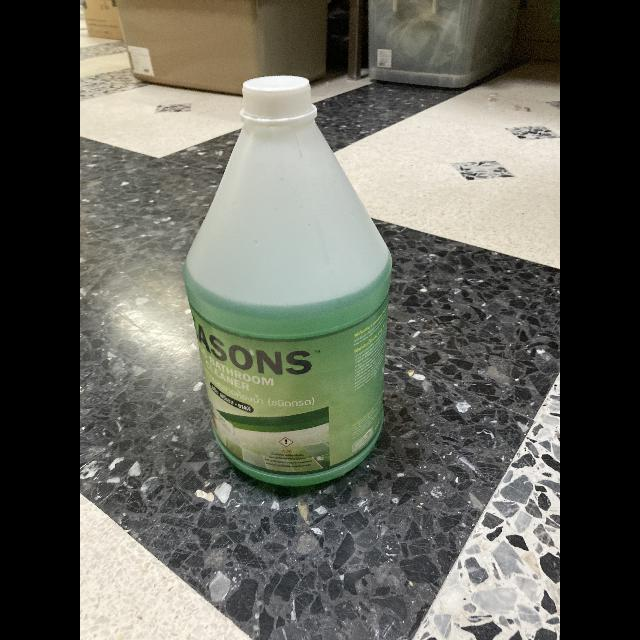chemical_plastic_gallon: (184, 75, 392, 489)
